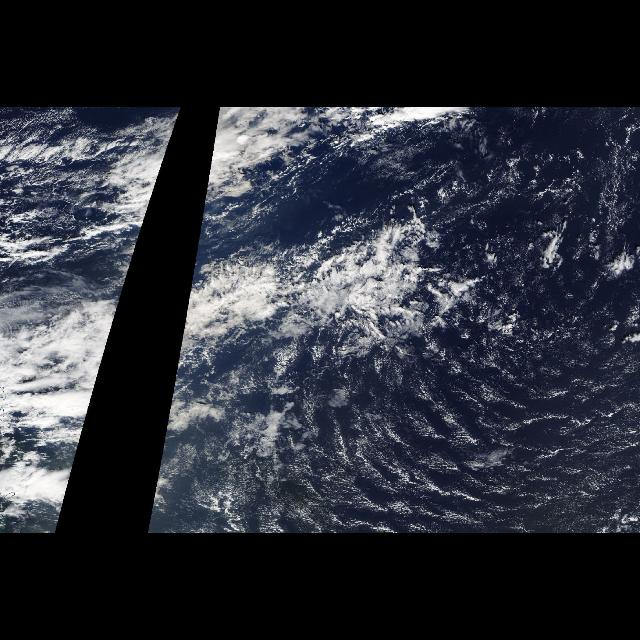Fish: (168, 174, 558, 410), (0, 174, 160, 410)
Sugar: (248, 321, 640, 533)
